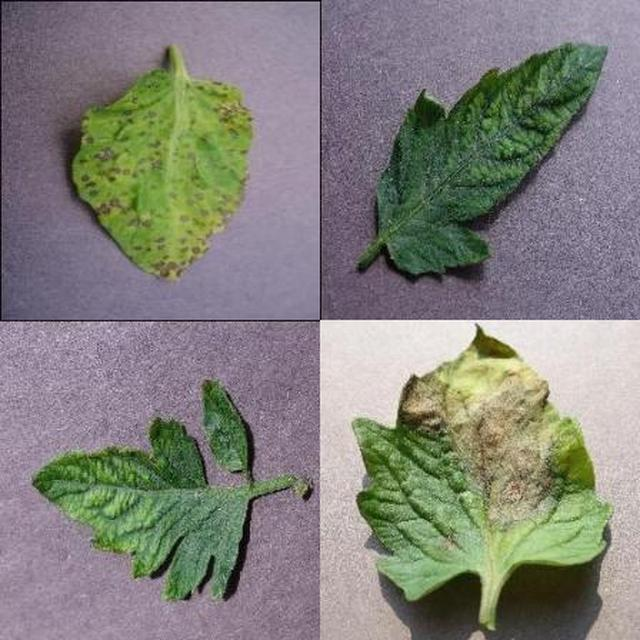Septoria Leaf: (202, 231, 640, 640)
